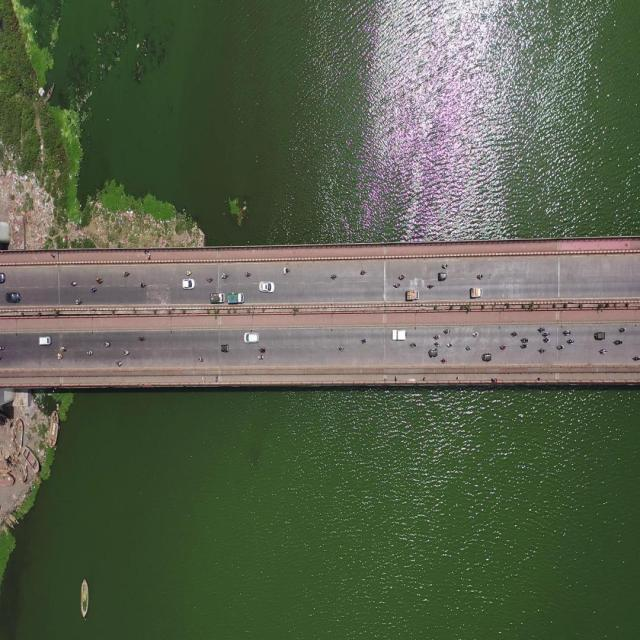3W: (215, 342, 232, 354), (590, 329, 606, 341), (436, 270, 448, 284), (482, 348, 492, 364), (429, 347, 441, 360)
Cars: (390, 326, 408, 343), (257, 280, 276, 294), (243, 330, 260, 344), (210, 288, 225, 303), (38, 332, 54, 346), (182, 278, 198, 292), (4, 292, 22, 304)
M2W: (136, 329, 150, 347), (94, 273, 106, 286), (357, 267, 370, 279), (425, 282, 437, 295), (561, 326, 574, 338), (282, 262, 292, 277), (88, 282, 100, 294), (121, 267, 131, 281), (464, 340, 474, 354), (475, 270, 486, 282), (566, 335, 578, 346), (196, 353, 206, 366), (104, 336, 113, 350), (86, 346, 96, 358), (122, 347, 132, 359), (445, 340, 455, 352), (539, 329, 551, 339), (537, 346, 549, 356), (599, 344, 609, 356), (220, 270, 233, 279), (59, 344, 70, 354), (497, 342, 507, 353), (510, 330, 521, 340), (519, 341, 530, 351), (140, 279, 149, 291), (259, 343, 268, 355), (256, 350, 265, 362), (329, 270, 338, 282), (359, 333, 368, 345), (113, 359, 126, 367), (397, 268, 405, 281), (541, 335, 552, 344), (631, 351, 640, 362), (338, 342, 346, 354), (56, 353, 66, 362), (69, 279, 79, 288), (76, 296, 85, 306), (206, 273, 215, 283), (440, 260, 449, 270), (433, 338, 442, 348), (471, 329, 481, 338), (618, 324, 628, 333), (410, 339, 418, 350), (443, 325, 451, 336), (519, 335, 530, 343), (536, 322, 544, 333), (186, 266, 193, 278), (612, 339, 624, 346), (433, 332, 441, 342), (244, 270, 251, 280), (440, 357, 450, 364), (394, 282, 401, 289), (557, 344, 564, 351)
Truck: (405, 285, 420, 303), (228, 290, 244, 306), (469, 285, 485, 300)
